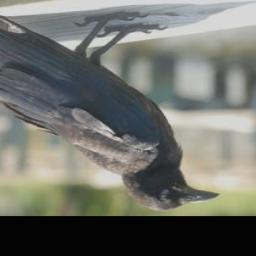Crow: (0, 0, 222, 211)
